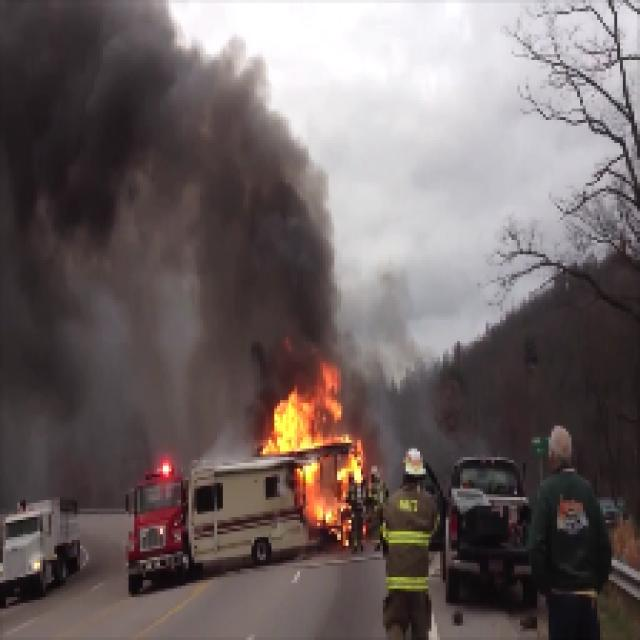fire: (251, 391, 323, 454)
smoke: (8, 50, 202, 226), (215, 183, 325, 375)
